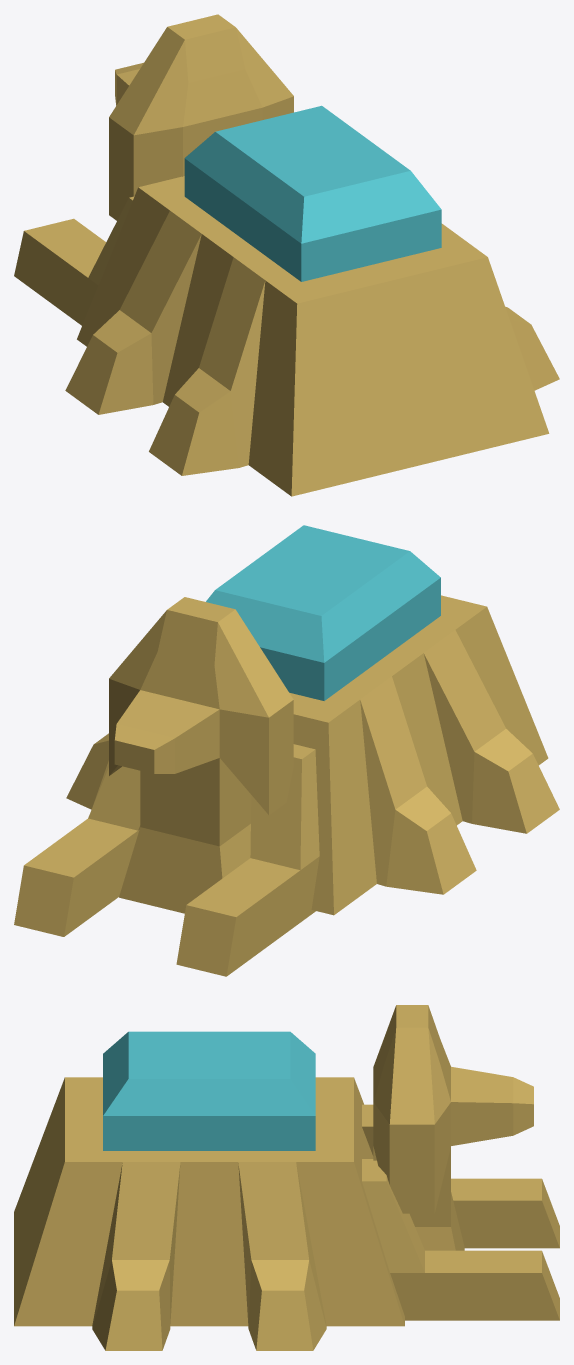
File: Sphynx.fbx
3 views of the same model, one above another, from view 1: azimuth 30°, elevation 25°; view 2: azimuth 150°, elevation 25°; view 3: azimuth 270°, elevation 25° (orthographic). The views are drawn at different scales.
Visible parts, largest first — view 1: SphynxRight; view 2: SphynxRight; view 3: SphynxRight.
Boxes of the visible parts, x1,y1,x2,y2 form: SphynxRight: (14, 14, 559, 496); SphynxRight: (14, 525, 559, 976); SphynxRight: (14, 1005, 559, 1350).
Size of the model in its own units: 558 by 397 by 765.
